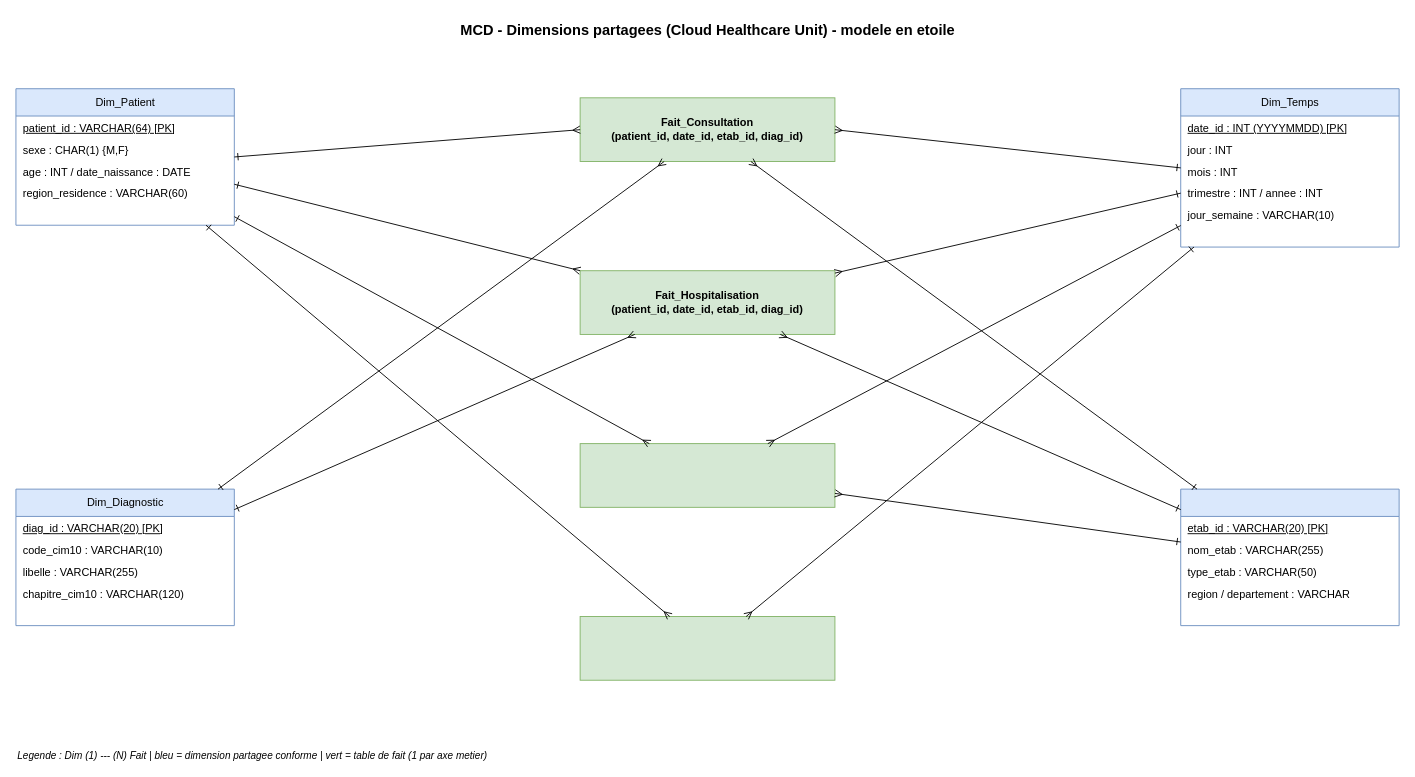
Some shapes in this 1415 by 777 pixel diagram are drawn without their labels. Each missing label, with the box of its shape:
Dim_Etablissement: (1180, 488, 1399, 626)
Fait_Deces (patient_id, date_id): (579, 616, 835, 680)
Fait_Satisfaction (patient_id, date_id, etab_id): (579, 443, 835, 507)
